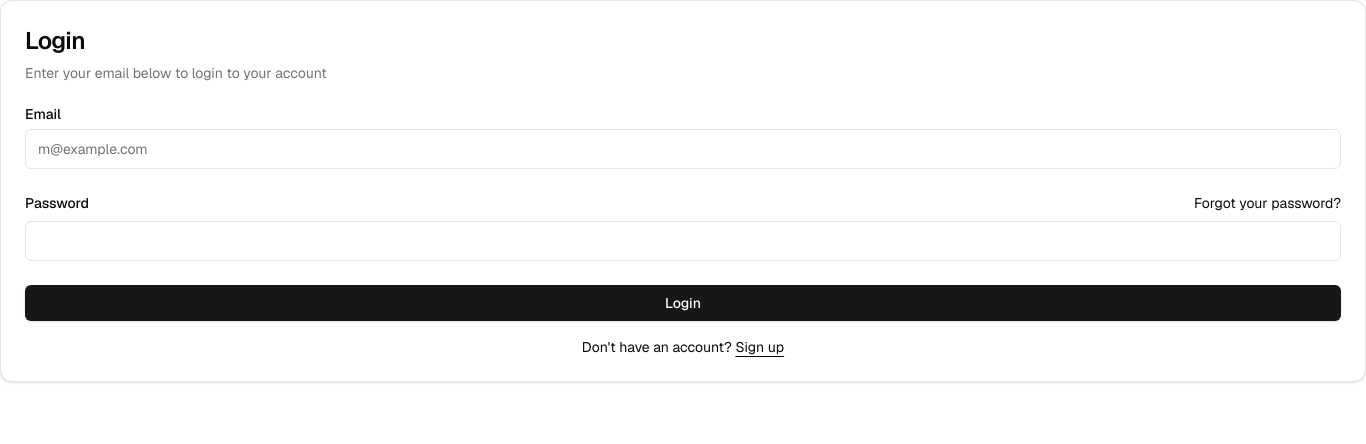
it: LoginForm › clears error message on new submission
The image size is (1366, 444).
# First attempt - should fail
Type "test@example.com" into the field labelled "Email".
click(683, 149); type("test@example.com")  # box [25,129,1341,169]
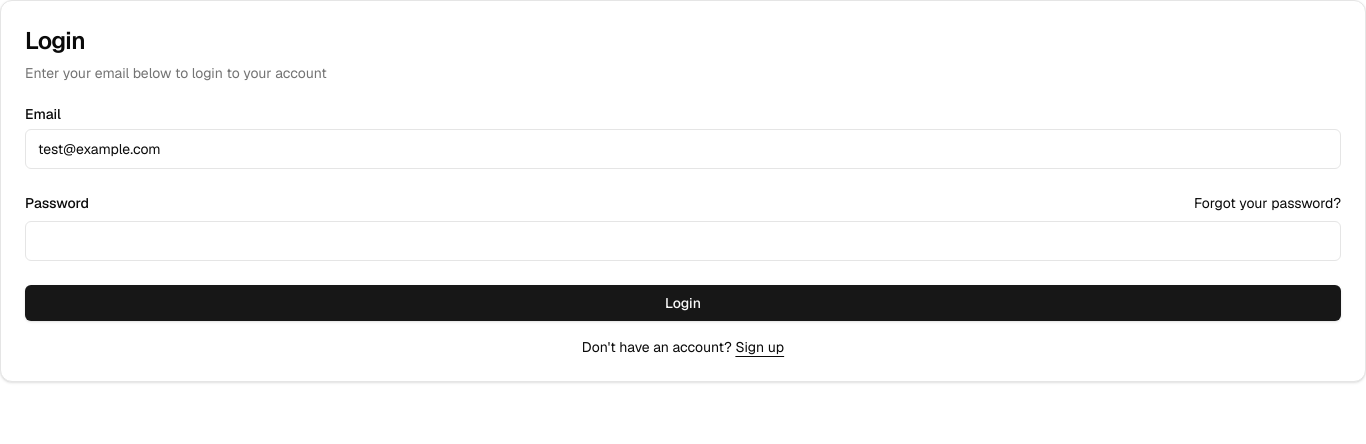
Type "wrongpassword" into the password field labelled "Password".
click(683, 241); type("wrongpassword")  # box [25,221,1341,261]
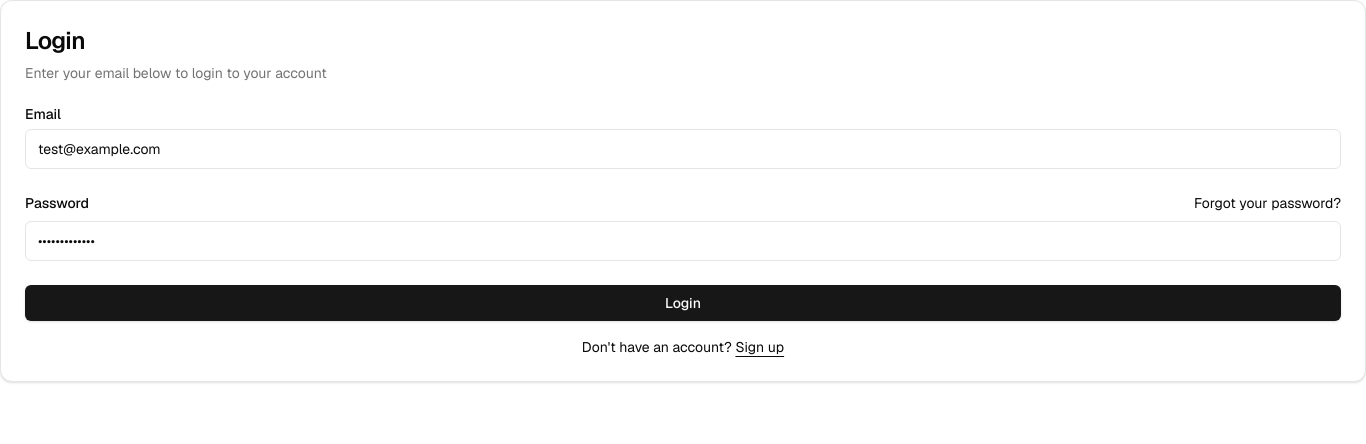
Click the button "Login".
click(683, 303)  # box [25,285,1341,321]
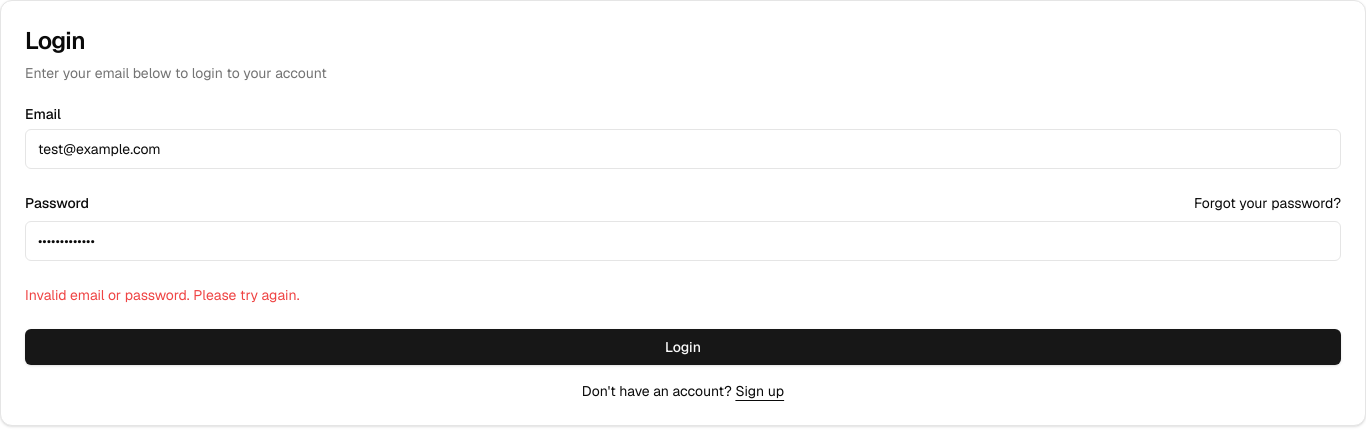
Expected: the text "Invalid email or password. Please try again." is shown, [25,286,300,304]
# Second attempt - should succeed and clear error
Type "correctpassword" into the password field labelled "Password".
click(683, 241); type("correctpassword")  # box [25,221,1341,261]
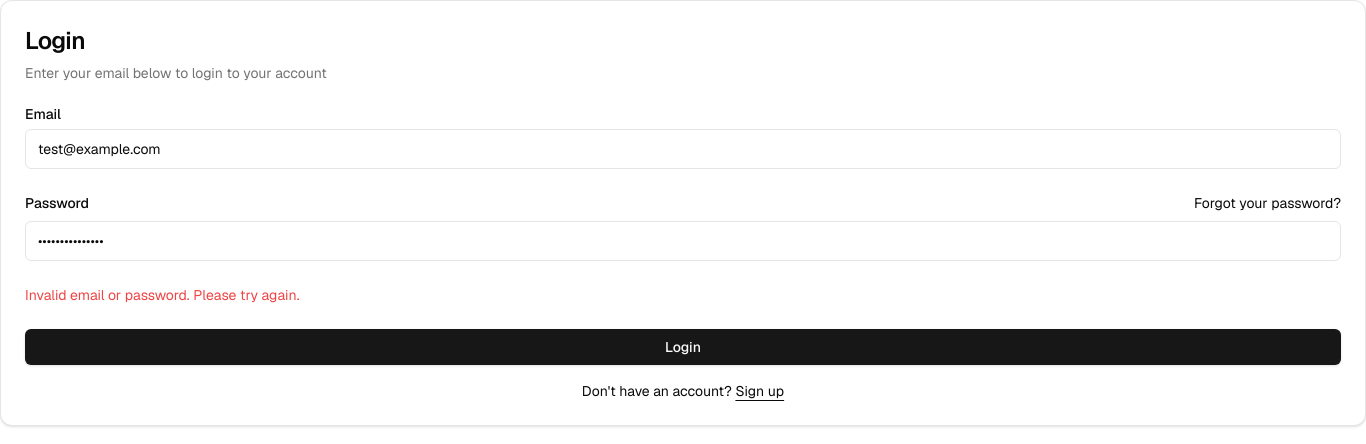
Click the button "Login".
click(683, 347)  # box [25,329,1341,365]
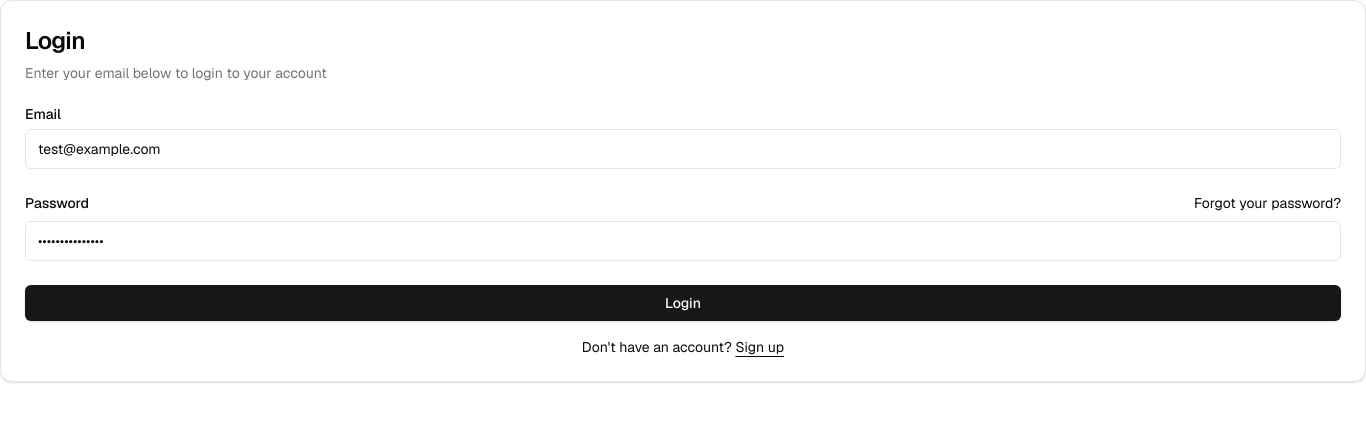
Expected: the text "Invalid email or password" is gone
